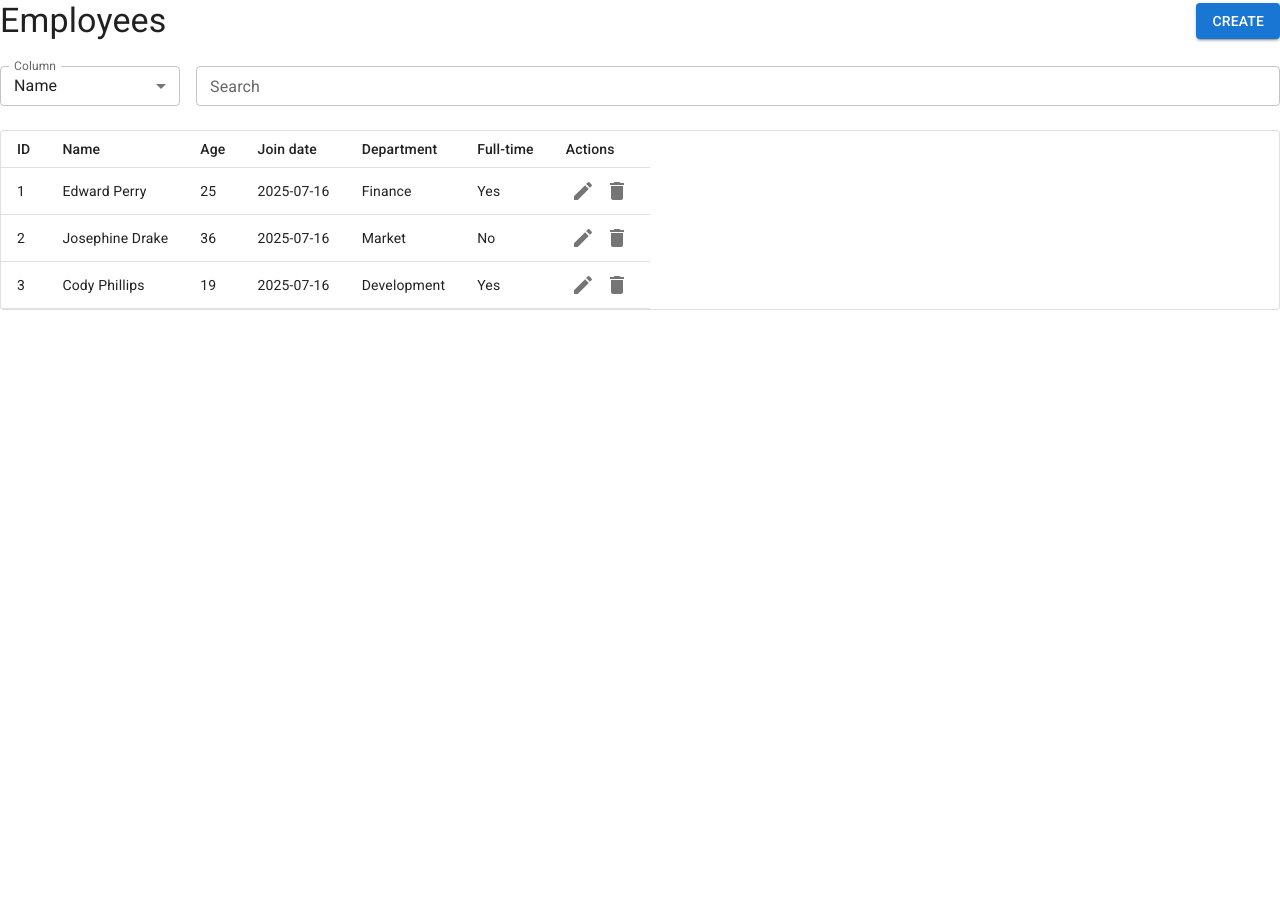
EmployeeListPage › 削除失敗時はエラーコンポーネントを表示する
Expected: the cell "Edward Perry" is shown, left=46, top=168, right=184, bottom=214
Click the button named "Delete Edward Perry" at {"x": 617, "y": 191}, box left=600, top=174, right=634, bottom=208
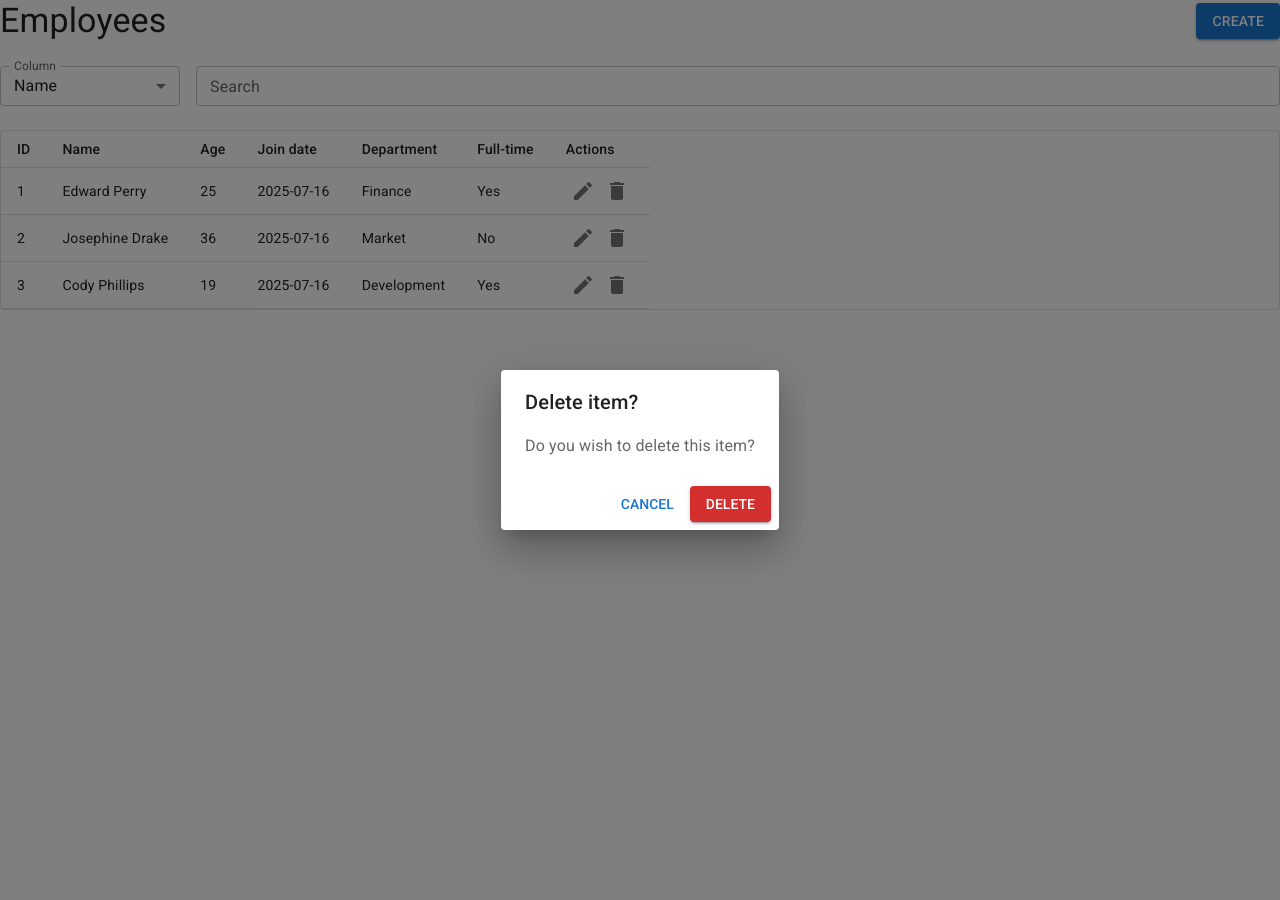
Click the button "Delete" at {"x": 730, "y": 504}, box left=690, top=486, right=771, bottom=522
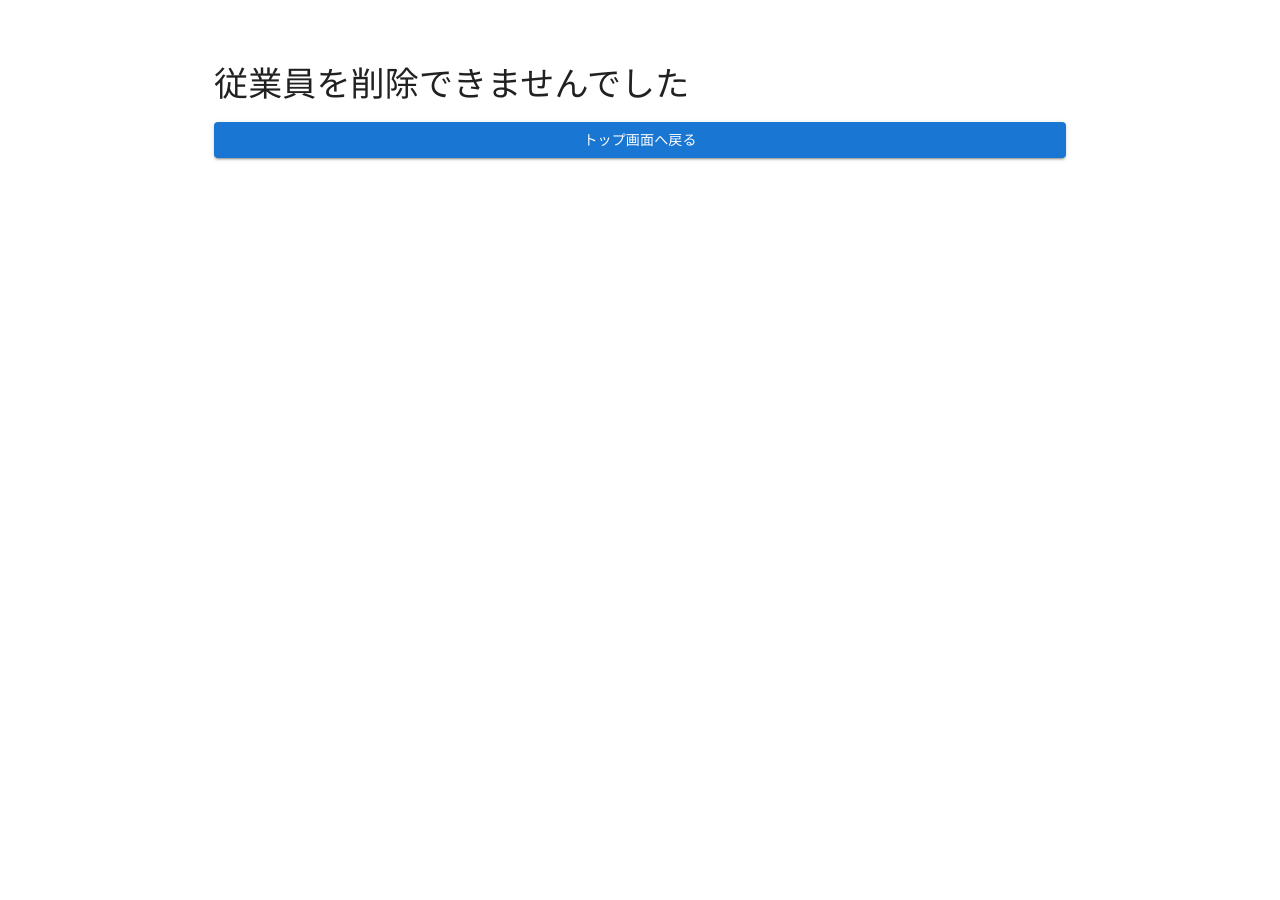
Expected: the heading "従業員を削除できませんでした" is shown, left=214, top=64, right=689, bottom=104
Expected: the heading "Employees" is gone
